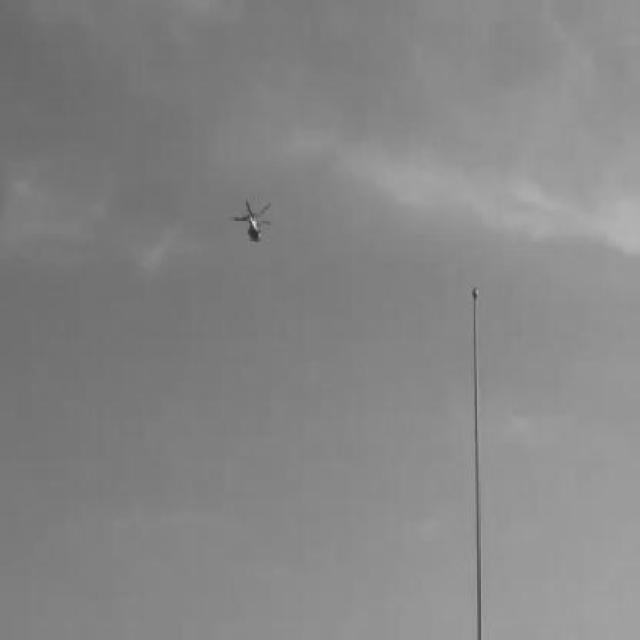helikopter: (233, 200, 272, 245)
